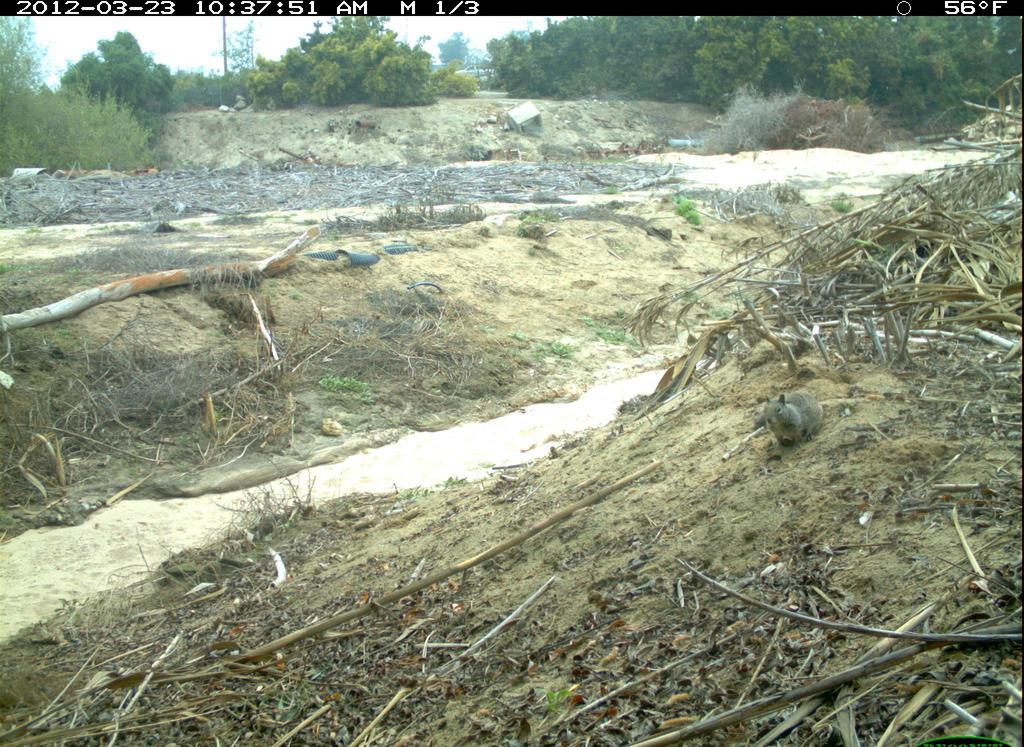squirrel: (743, 378, 834, 454)
